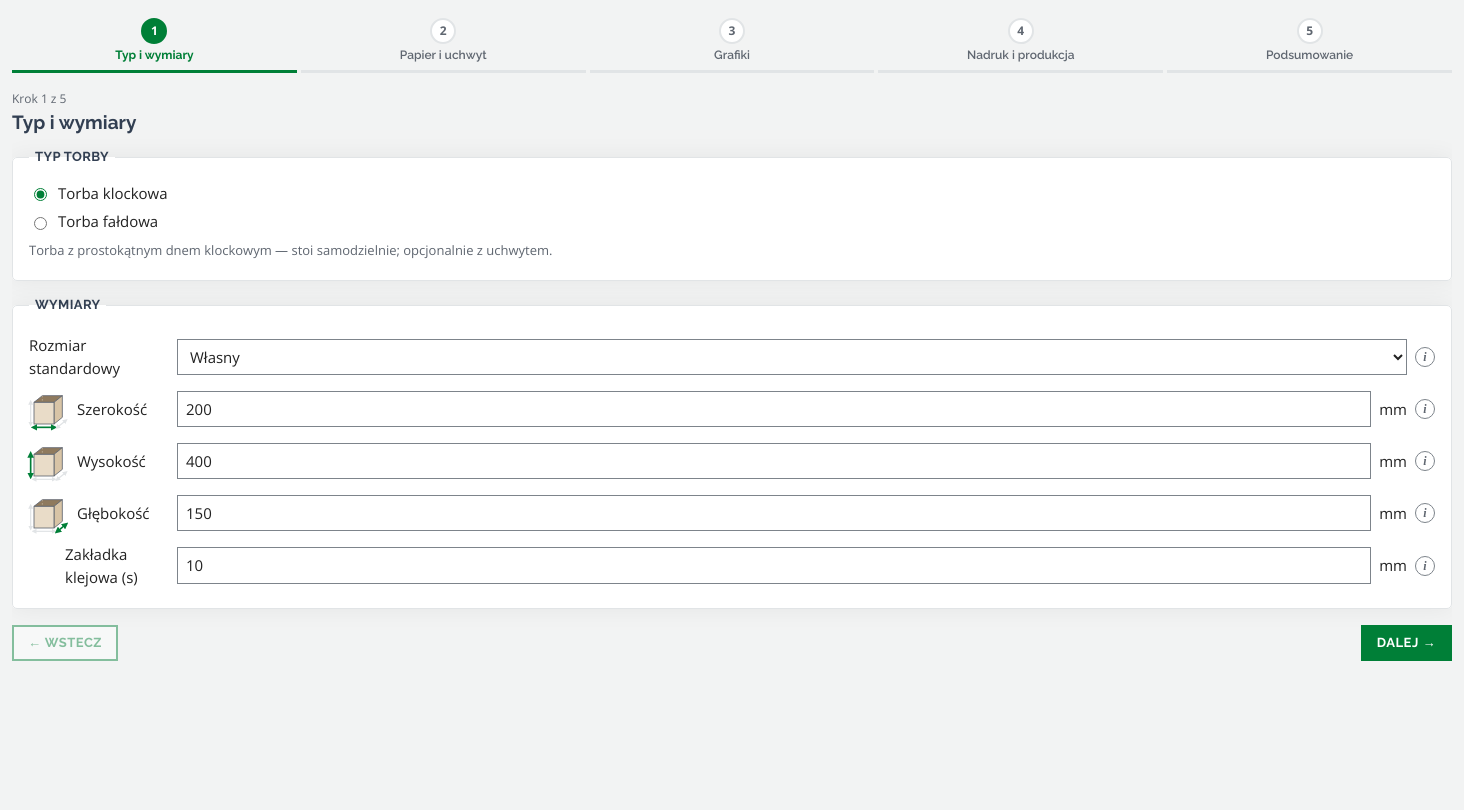
it: BagConfigurator step navigation › allows jumping freely between steps via the step headers
The width and height of the screenshot is (1464, 810).
Click the button "5 Podsumowanie". click: (1310, 43)
box: [1167,12,1452,73]
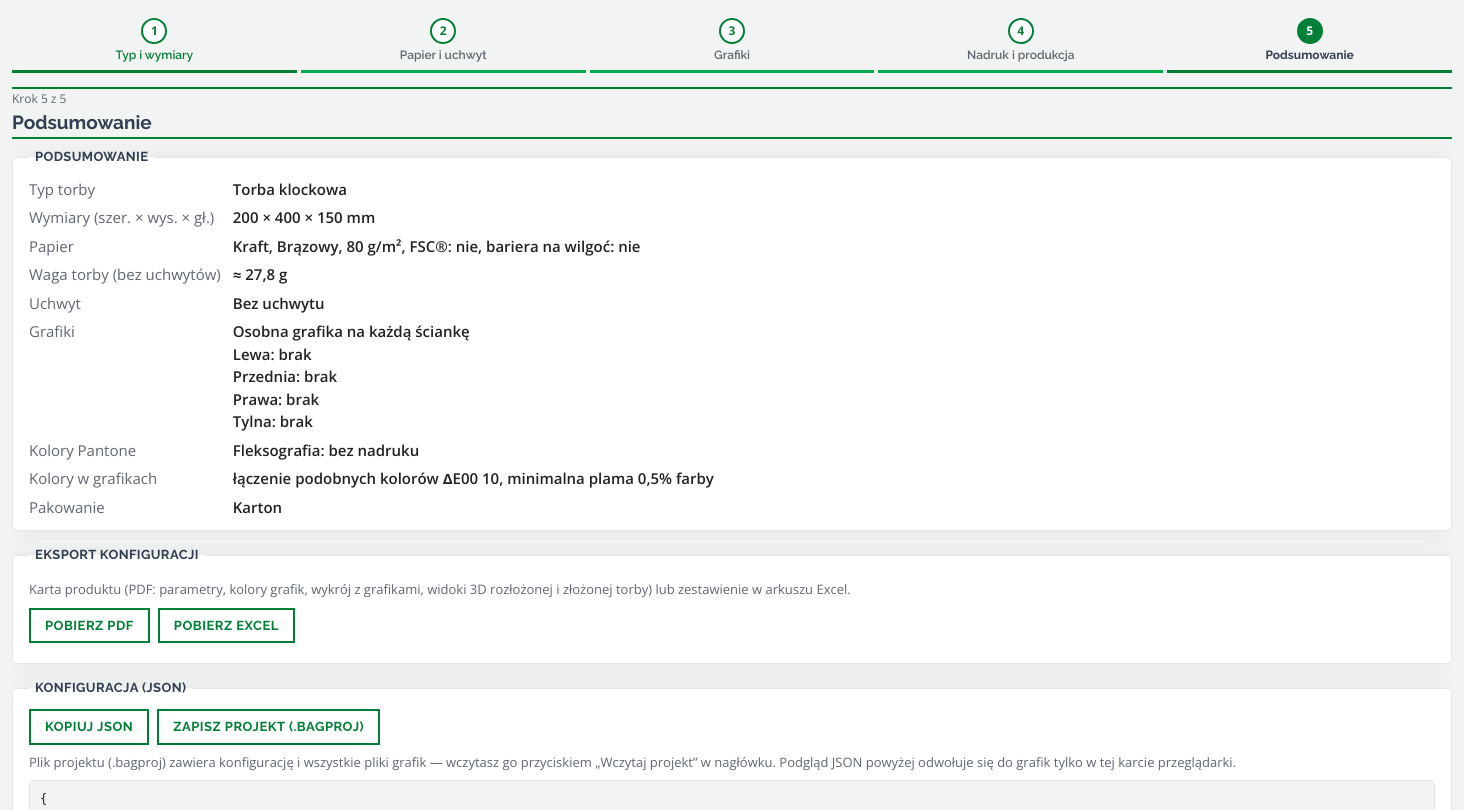
expect the heading shows "Krok 5 z 5": met, box [12,90,66,107]
Click the button "3 Grafiki". click: (732, 43)
box: [590,12,874,73]
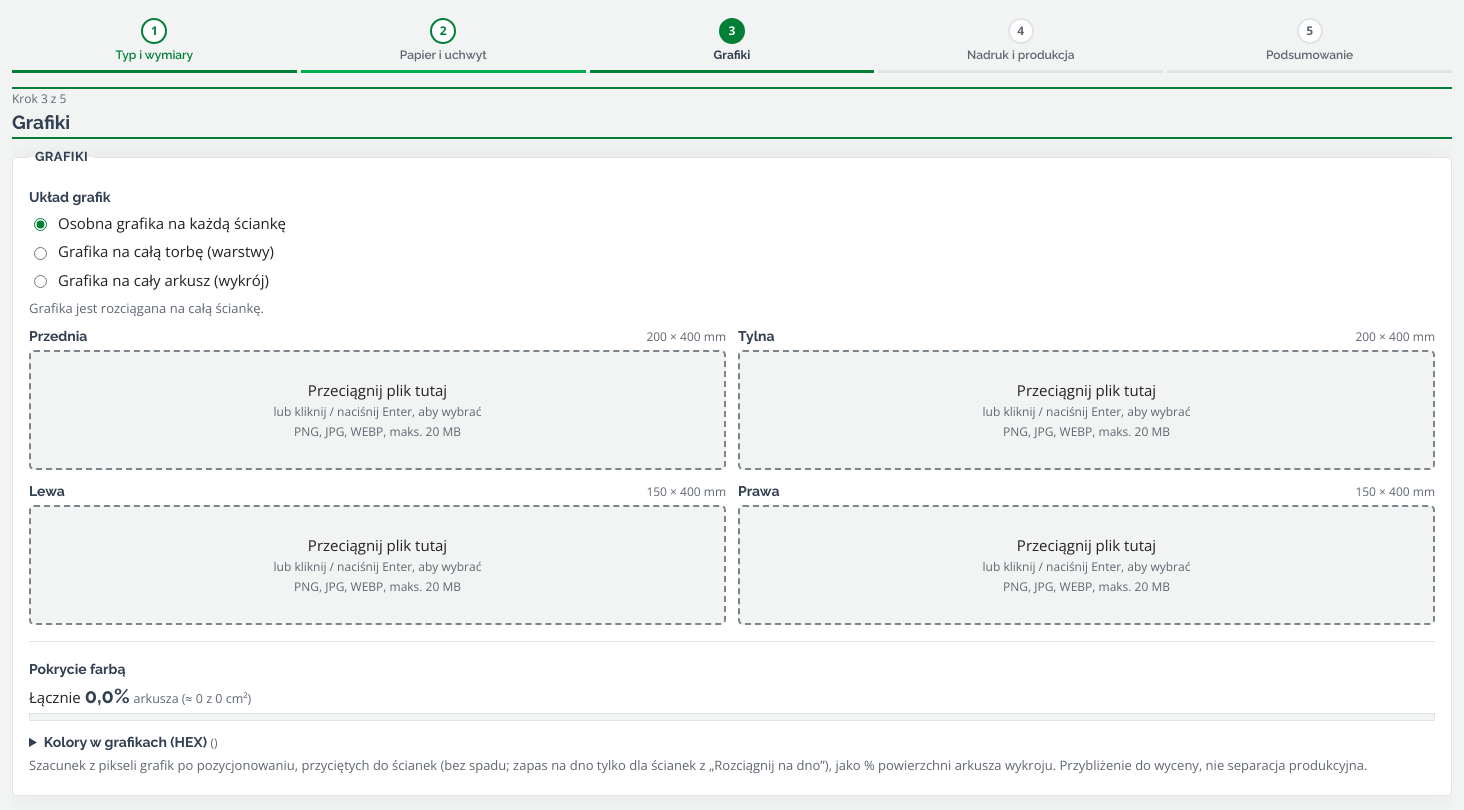
expect the button with aria-label "Ścianka Przednia: dodaj grafikę" is shown: met, box [29,350,726,470]
expect the number of buttons named "dodaj grafikę" is 4: met, box [29,350,726,470]; [738,350,1435,470]; [29,505,726,625]; [738,505,1435,625]
